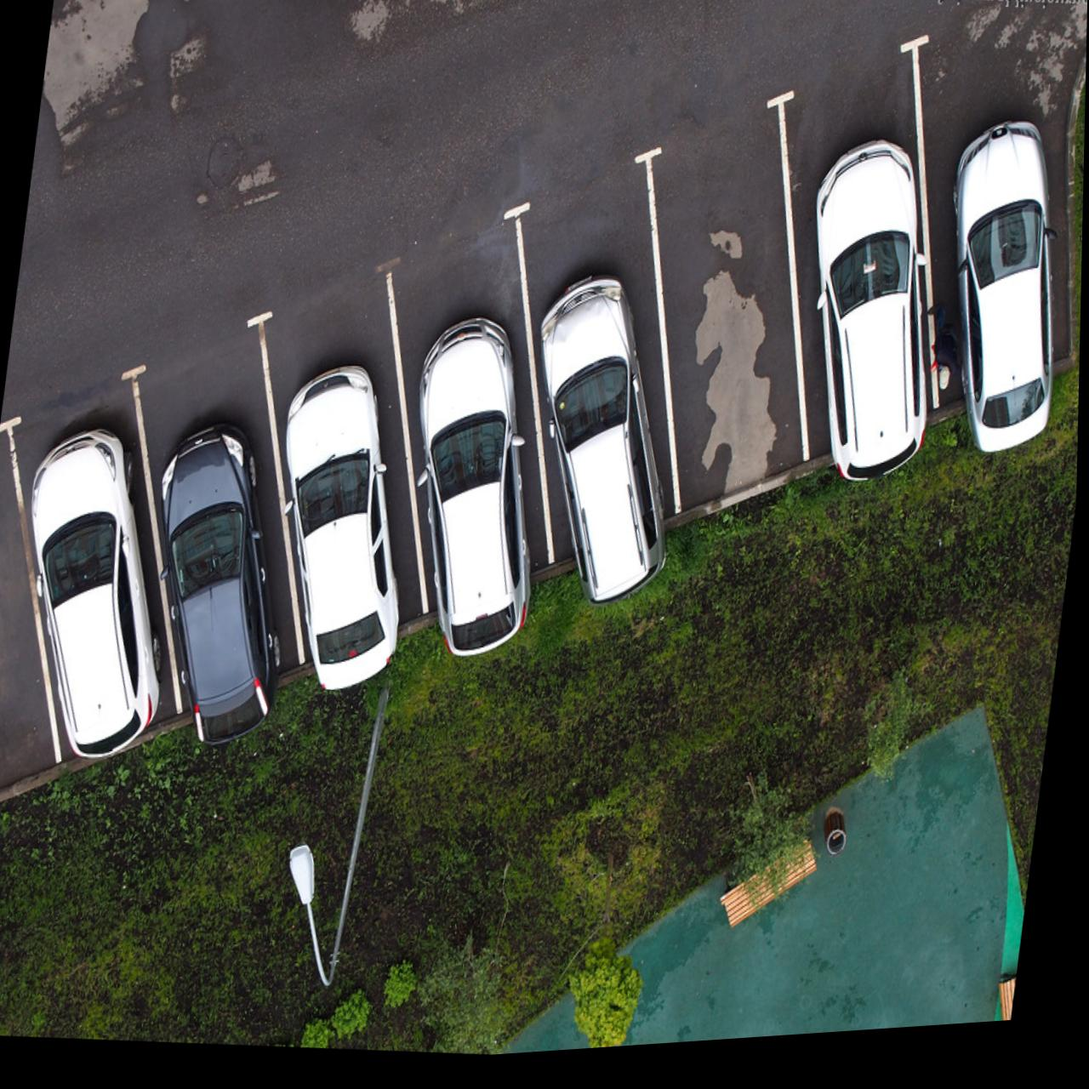cars: (743, 57, 970, 492), (232, 276, 453, 676), (356, 220, 575, 617), (899, 4, 1082, 461), (485, 181, 696, 577), (102, 326, 308, 721), (0, 382, 203, 763)
empty: (611, 121, 837, 509)
